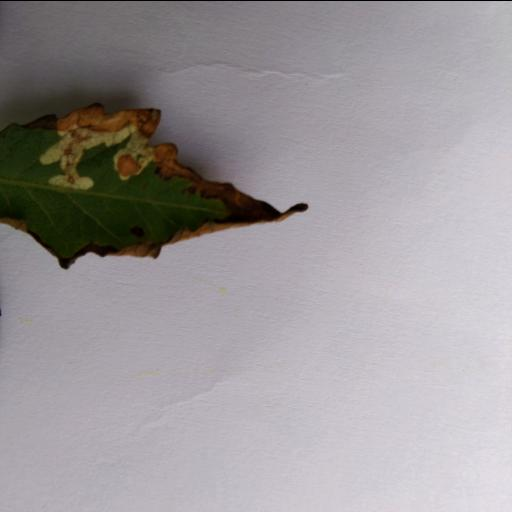disease_tomato: (0, 102, 280, 270)
